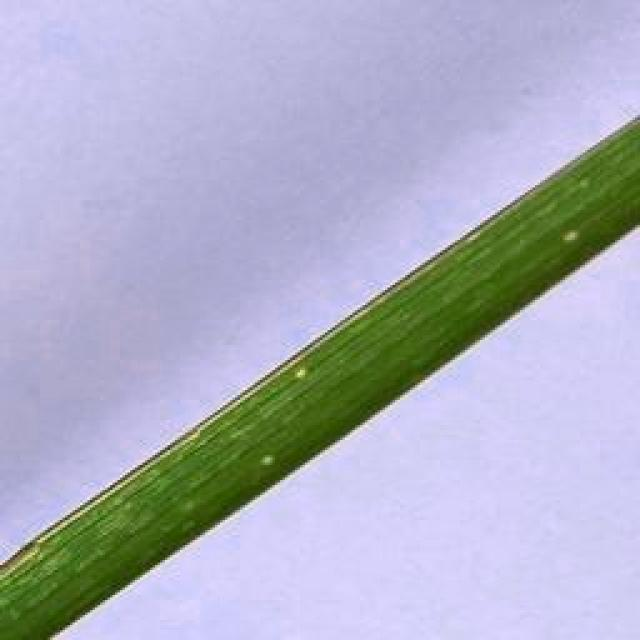Unhealthy: (258, 453, 278, 470), (560, 228, 581, 244), (293, 367, 310, 379)
